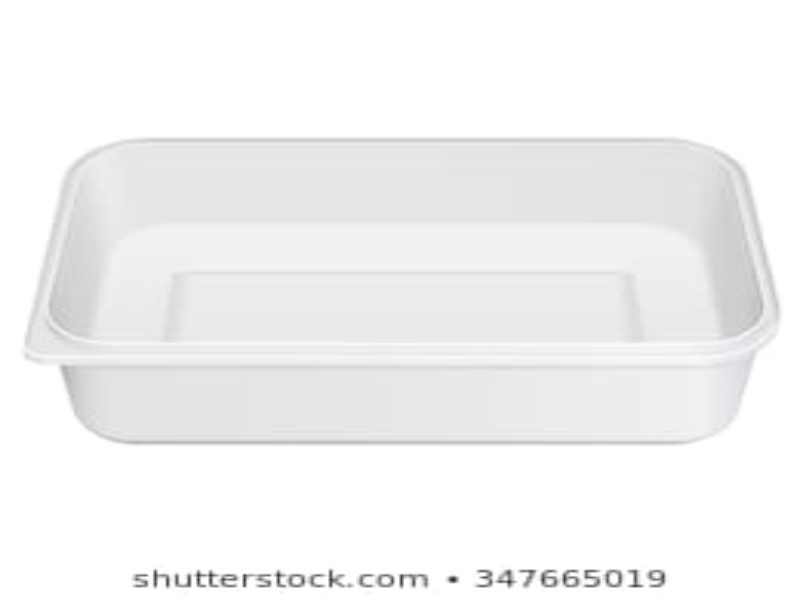plastic-container: (16, 135, 787, 452)
